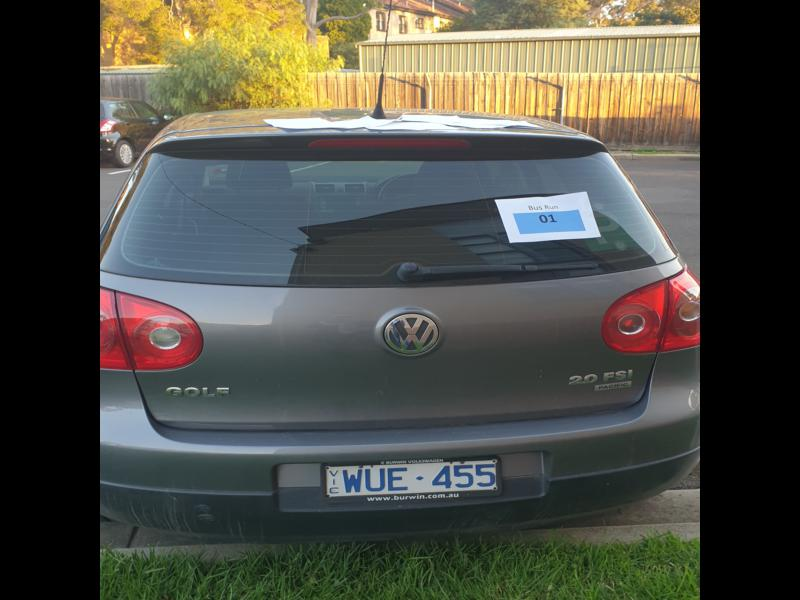BusRun: (515, 210, 586, 233)
PlateNo: (326, 461, 499, 494)
